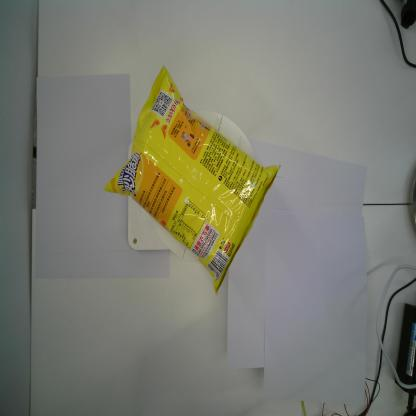Puffed Food: (102, 66, 282, 296)
